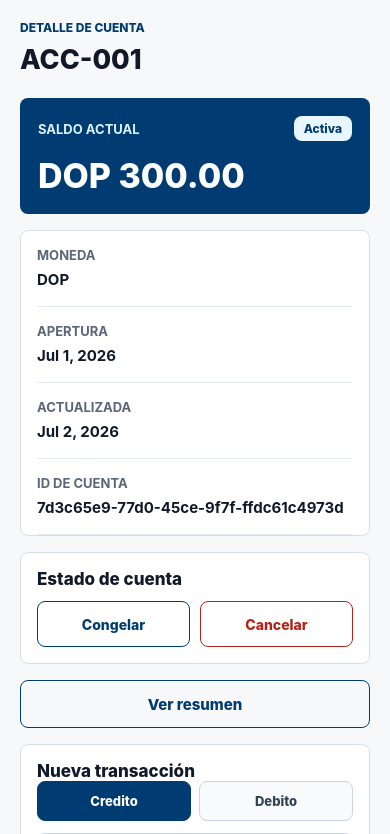
Scenario: <AccountDetailsScreen /> › shows confirmation before freezing or canceling an account
Click the button "Congelar" at coordinates (114, 624), box [37,601,190,647]
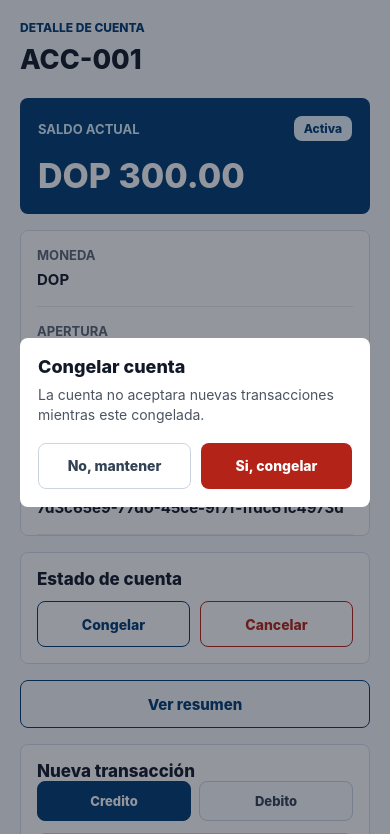
Expected: the text "Congelar cuenta" is shown, [38,356,185,376]
Expected: the text "La cuenta no aceptara nuevas transacciones mientras este congelada." is shown, [38,384,352,424]
Expected: the text "Si, congelar" is shown, [236,457,317,474]
Click the button "No, mantener" at coordinates (114, 466), box [38,442,191,488]
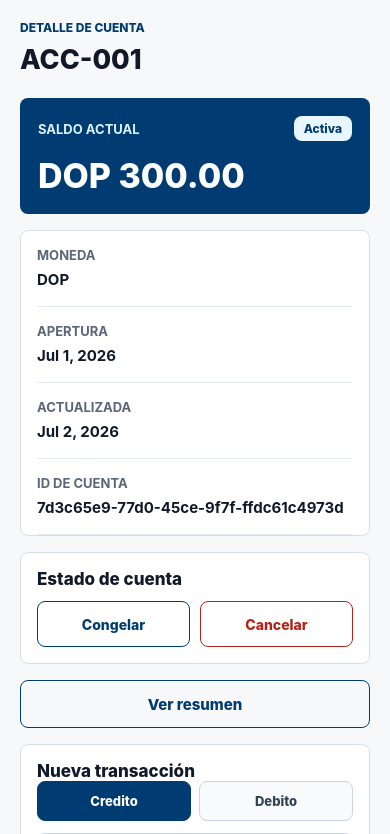
Expected: the text "Congelar cuenta" is gone
Click the button "Cancelar" at coordinates (276, 624), box [200,601,353,647]
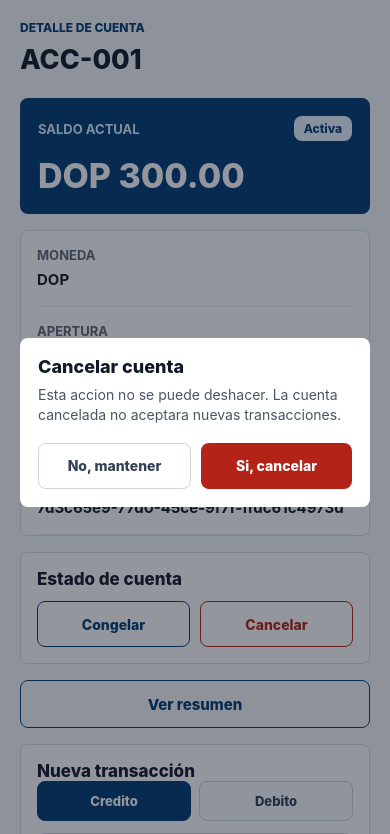
Expected: the text "Cancelar cuenta" is shown, [38,356,184,376]
Expected: the text "Esta accion no se puede deshacer. La cuenta cancelada no aceptara nuevas transacciones." is shown, [38,386,342,422]
Expected: the text "Si, cancelar" is shown, [236,457,317,474]
